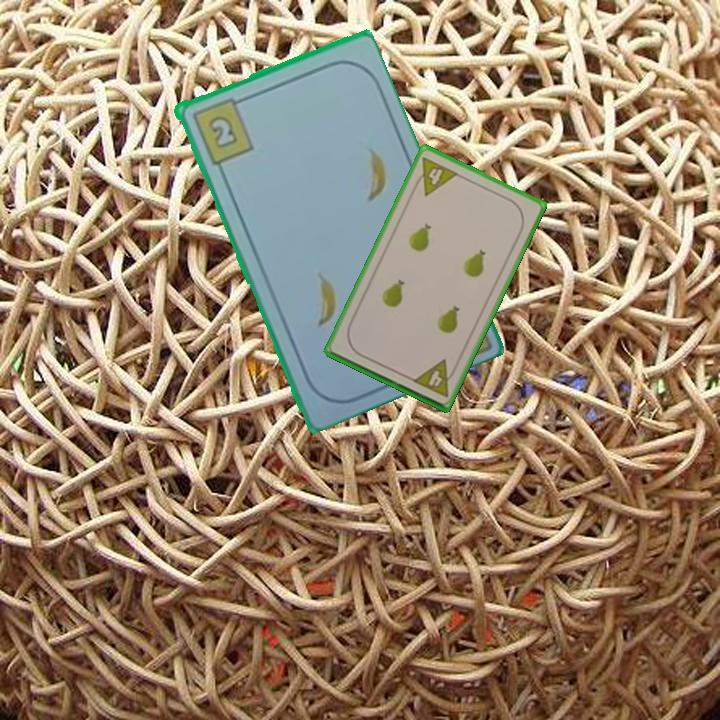2b: (188, 93, 256, 167)
4p: (409, 153, 461, 199), (409, 356, 460, 400)
